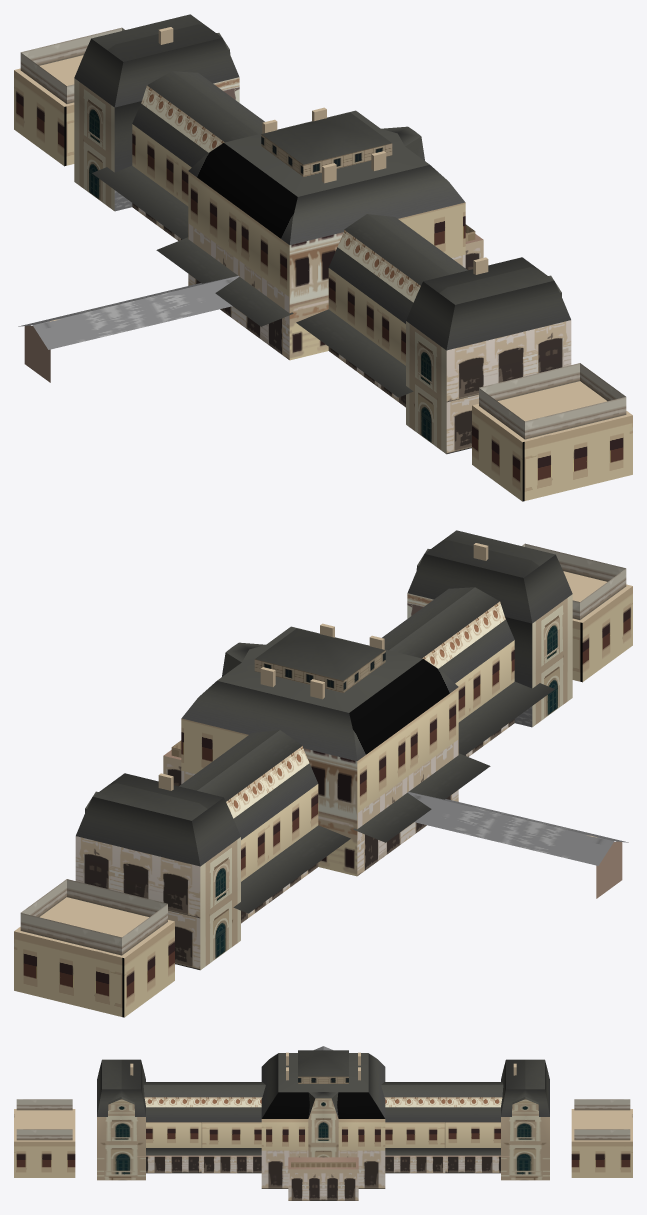
Rendered from SM_Building_Train_Station_01.fbx.
3 views of the same model, one above another, from view 1: azimuth 30°, elevation 25°; view 2: azimuth 150°, elevation 25°; view 3: azimuth 270°, elevation 25° (orthographic). The views are drawn at different scales.
Visible parts, largest first — view 1: SM_Building_Train_Station_01; view 2: SM_Building_Train_Station_01; view 3: SM_Building_Train_Station_01.
Boxes of the visible parts, x1,y1,x2,y2 form: SM_Building_Train_Station_01: [14, 14, 632, 501]; SM_Building_Train_Station_01: [14, 530, 632, 1017]; SM_Building_Train_Station_01: [14, 1046, 632, 1200].
Bounding box in the file's own units: 51.01 × 20.82 × 106.
